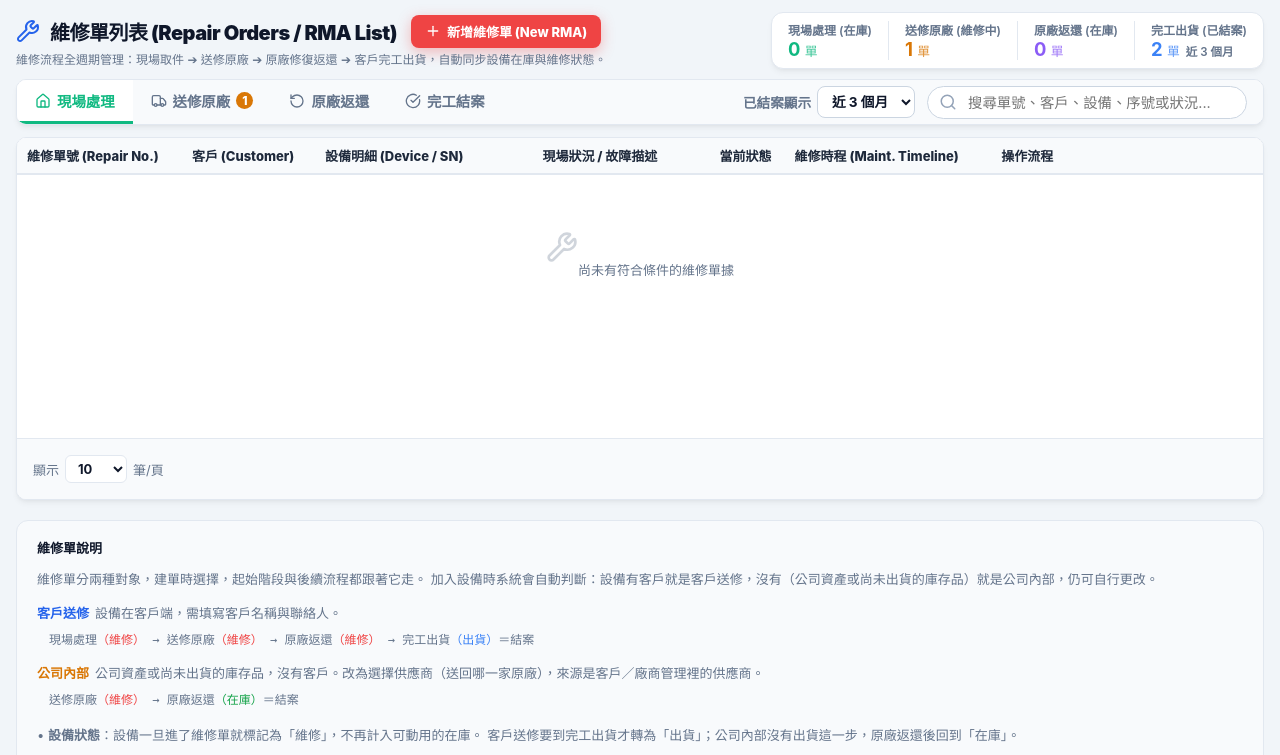
Test case: 維修單列表 › 自訂起訖日
This screenshot has width=1280, height=755.
Check: the text with test id "stat-1" reads "1", box [905,38,913,60]
Click the button "完工結案" at point(445, 102), box [387,80,503,124]
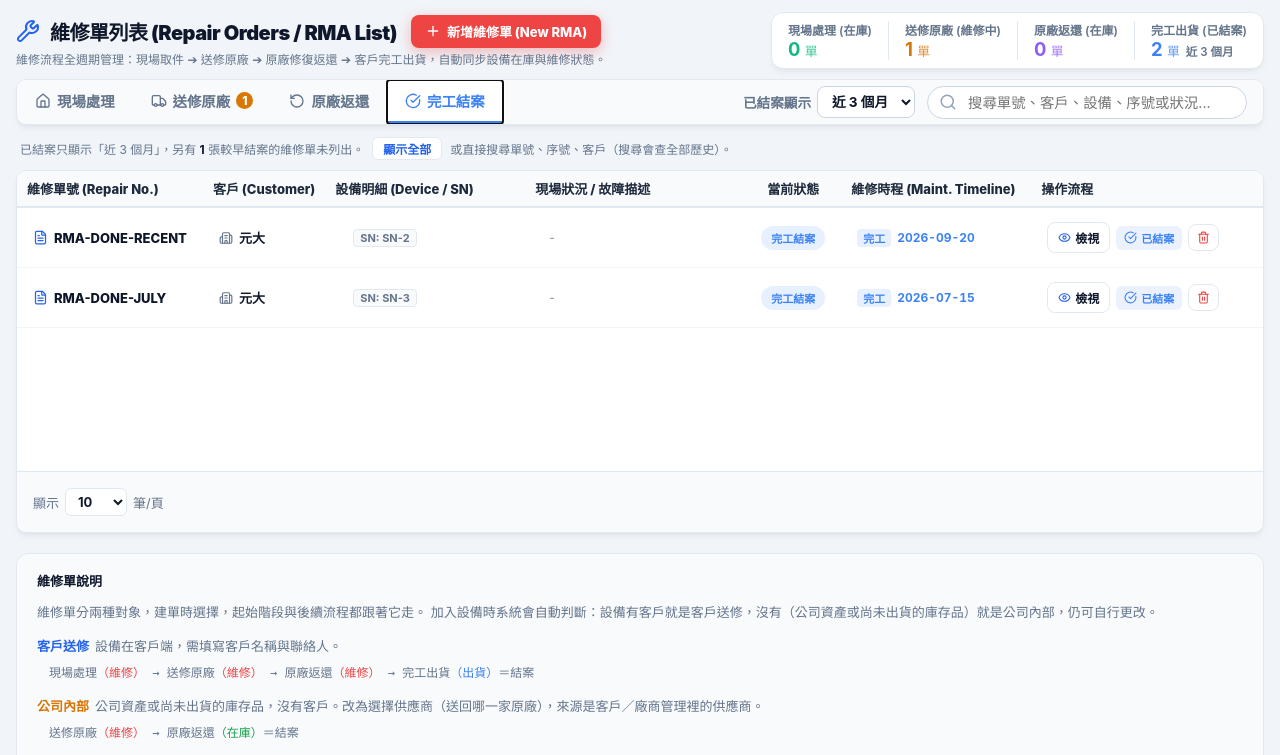
Select "自訂" in the dropdown named "已結案顯示期間" at point(866, 102), box [817,86,915,118]
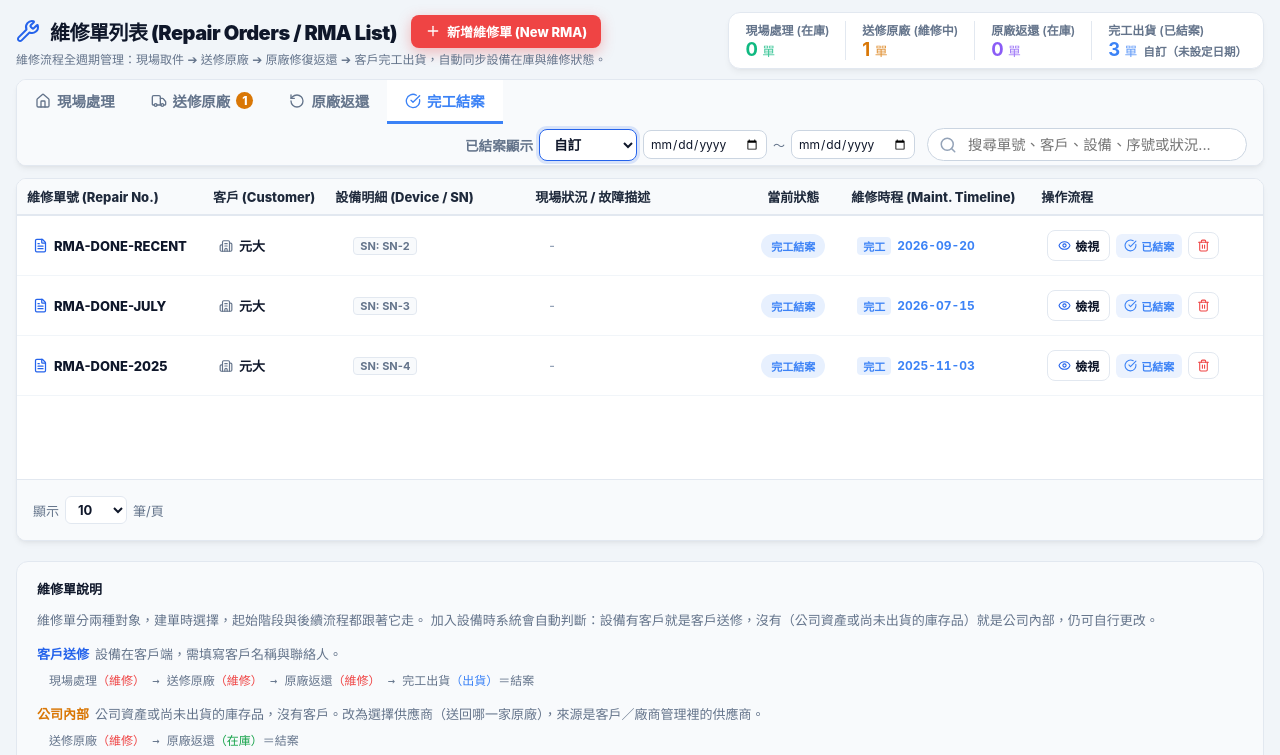
Type "2025-11-01" into the date field named "結案起日" at point(705, 144), box [643,130,767,159]
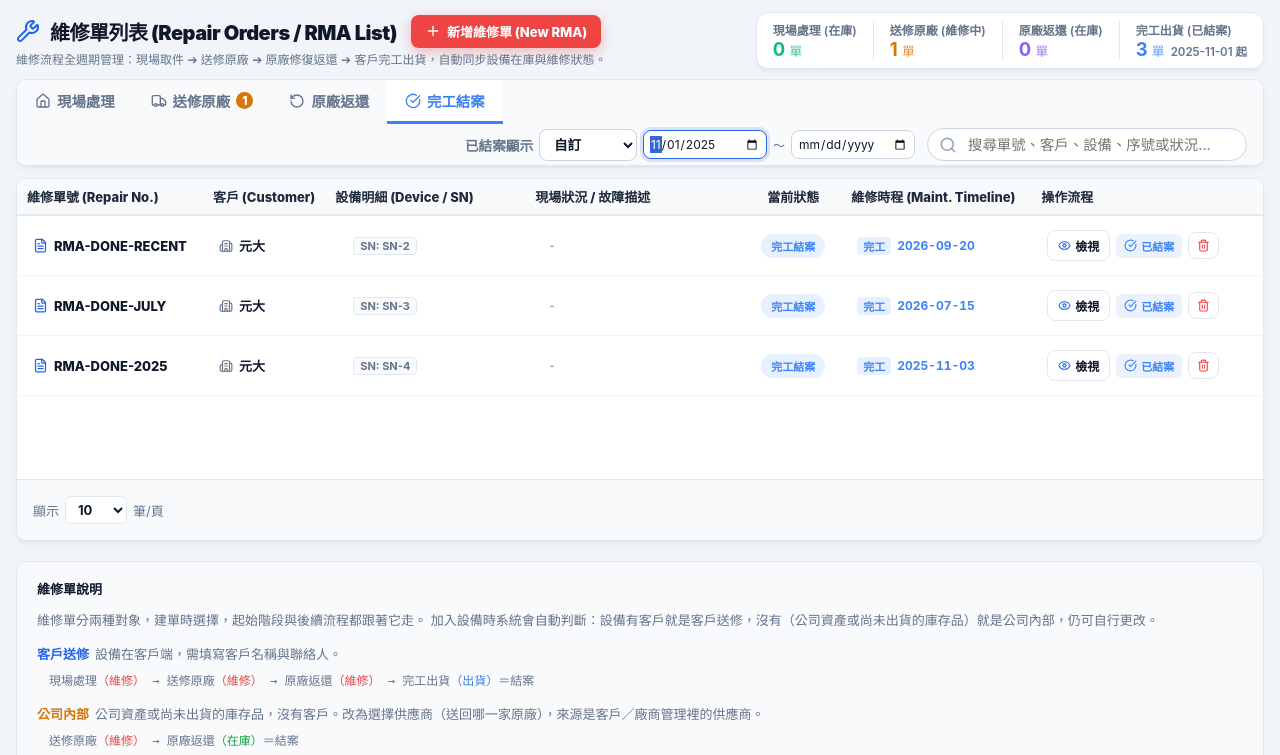
Type "2025-11-30" into the date field named "結案迄日" at point(853, 144), box [791,130,915,159]
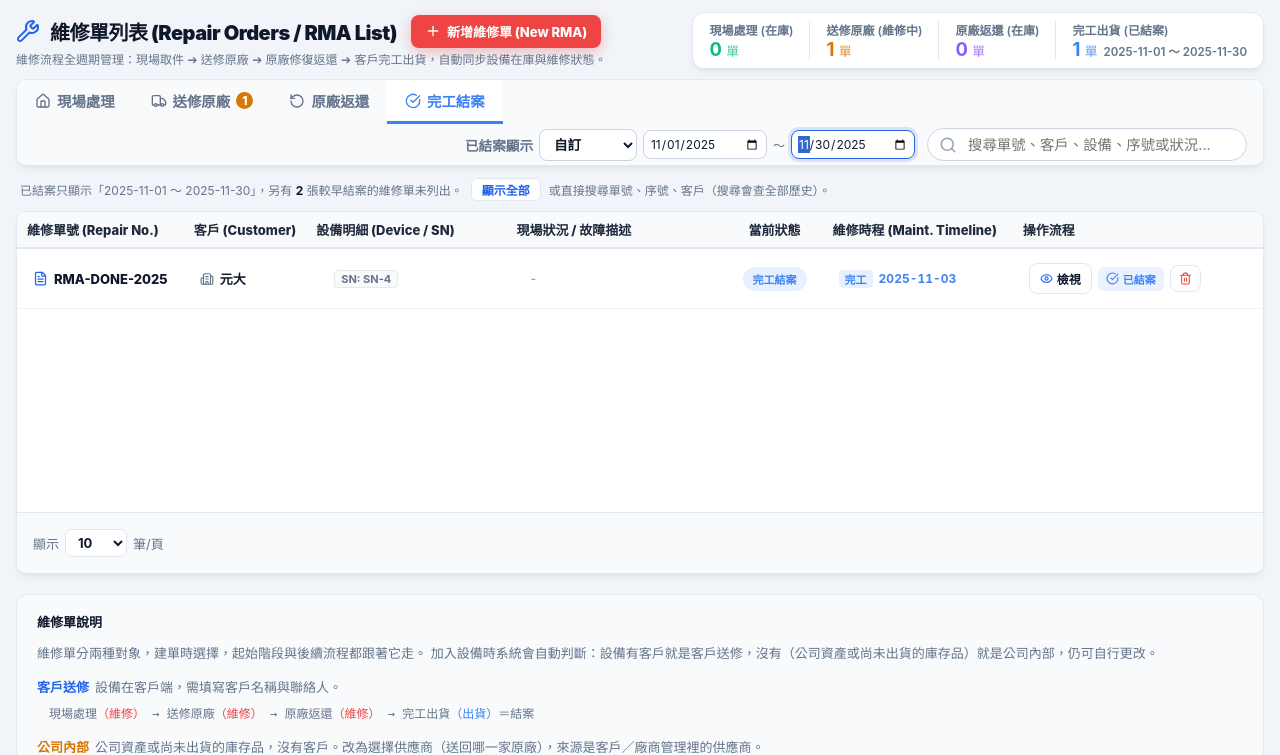
Check: the text "RMA-DONE-2025" is shown, box [54,270,168,286]
Check: the text "RMA-DONE-RECENT" is gone
